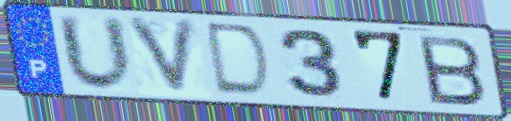3: (275, 27, 346, 101)
7: (348, 27, 407, 106)
B: (413, 33, 489, 108)
D: (206, 20, 275, 101)
U: (53, 12, 138, 95)
V: (123, 15, 202, 100)
